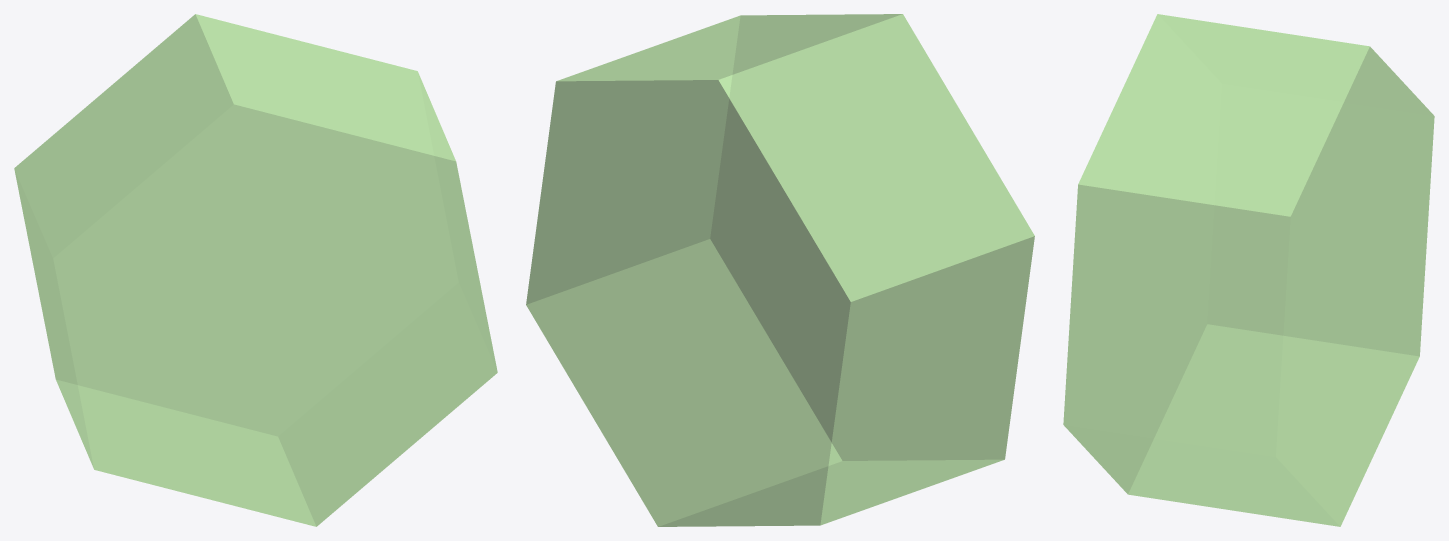
File: prisma1.glb
The picture shows the model from 3 angles, left to right: view 1: azimuth 30°, elevation 25°; view 2: azimuth 150°, elevation 25°; view 3: azimuth 270°, elevation 25°; orthographic projection. The views are drawn at different scales.
Size of the model in its own units: 9.14 by 8.68 by 6.55.
